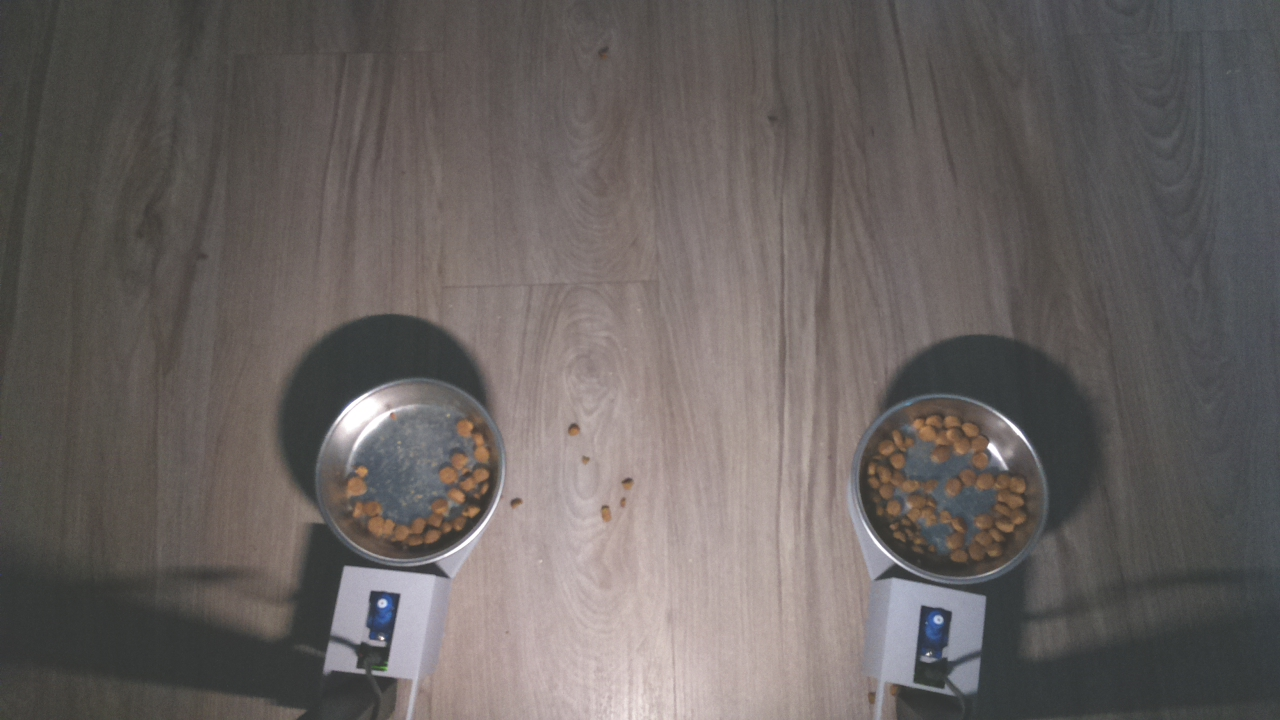open_bowl: (848, 390, 1050, 590), (314, 372, 507, 569)
